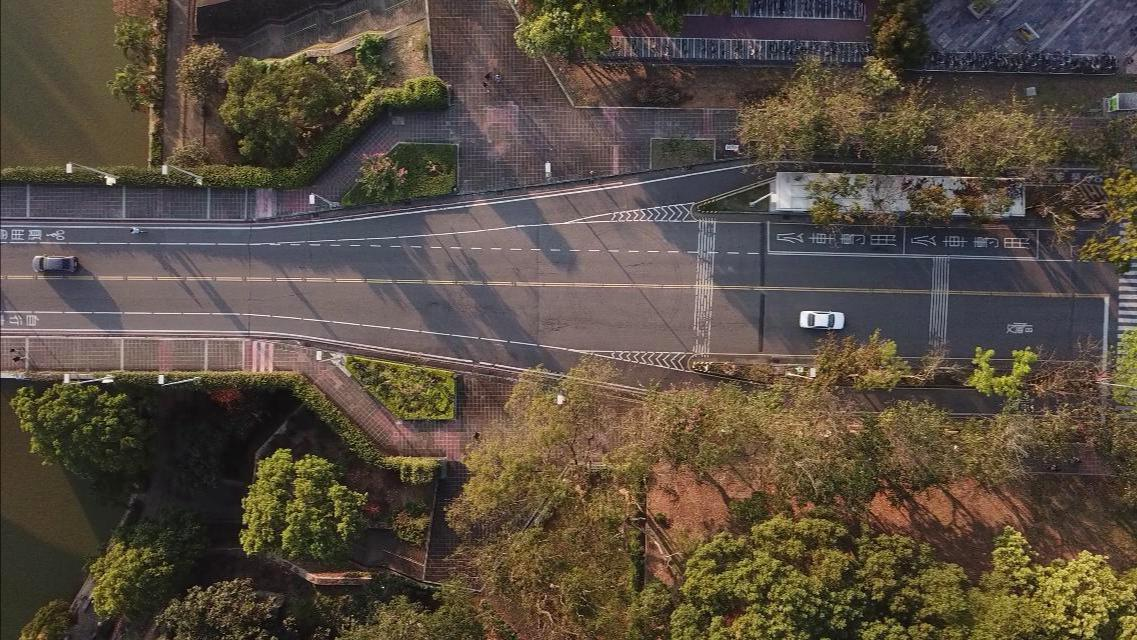vehicle: (799, 312, 845, 331), (32, 255, 78, 273)
